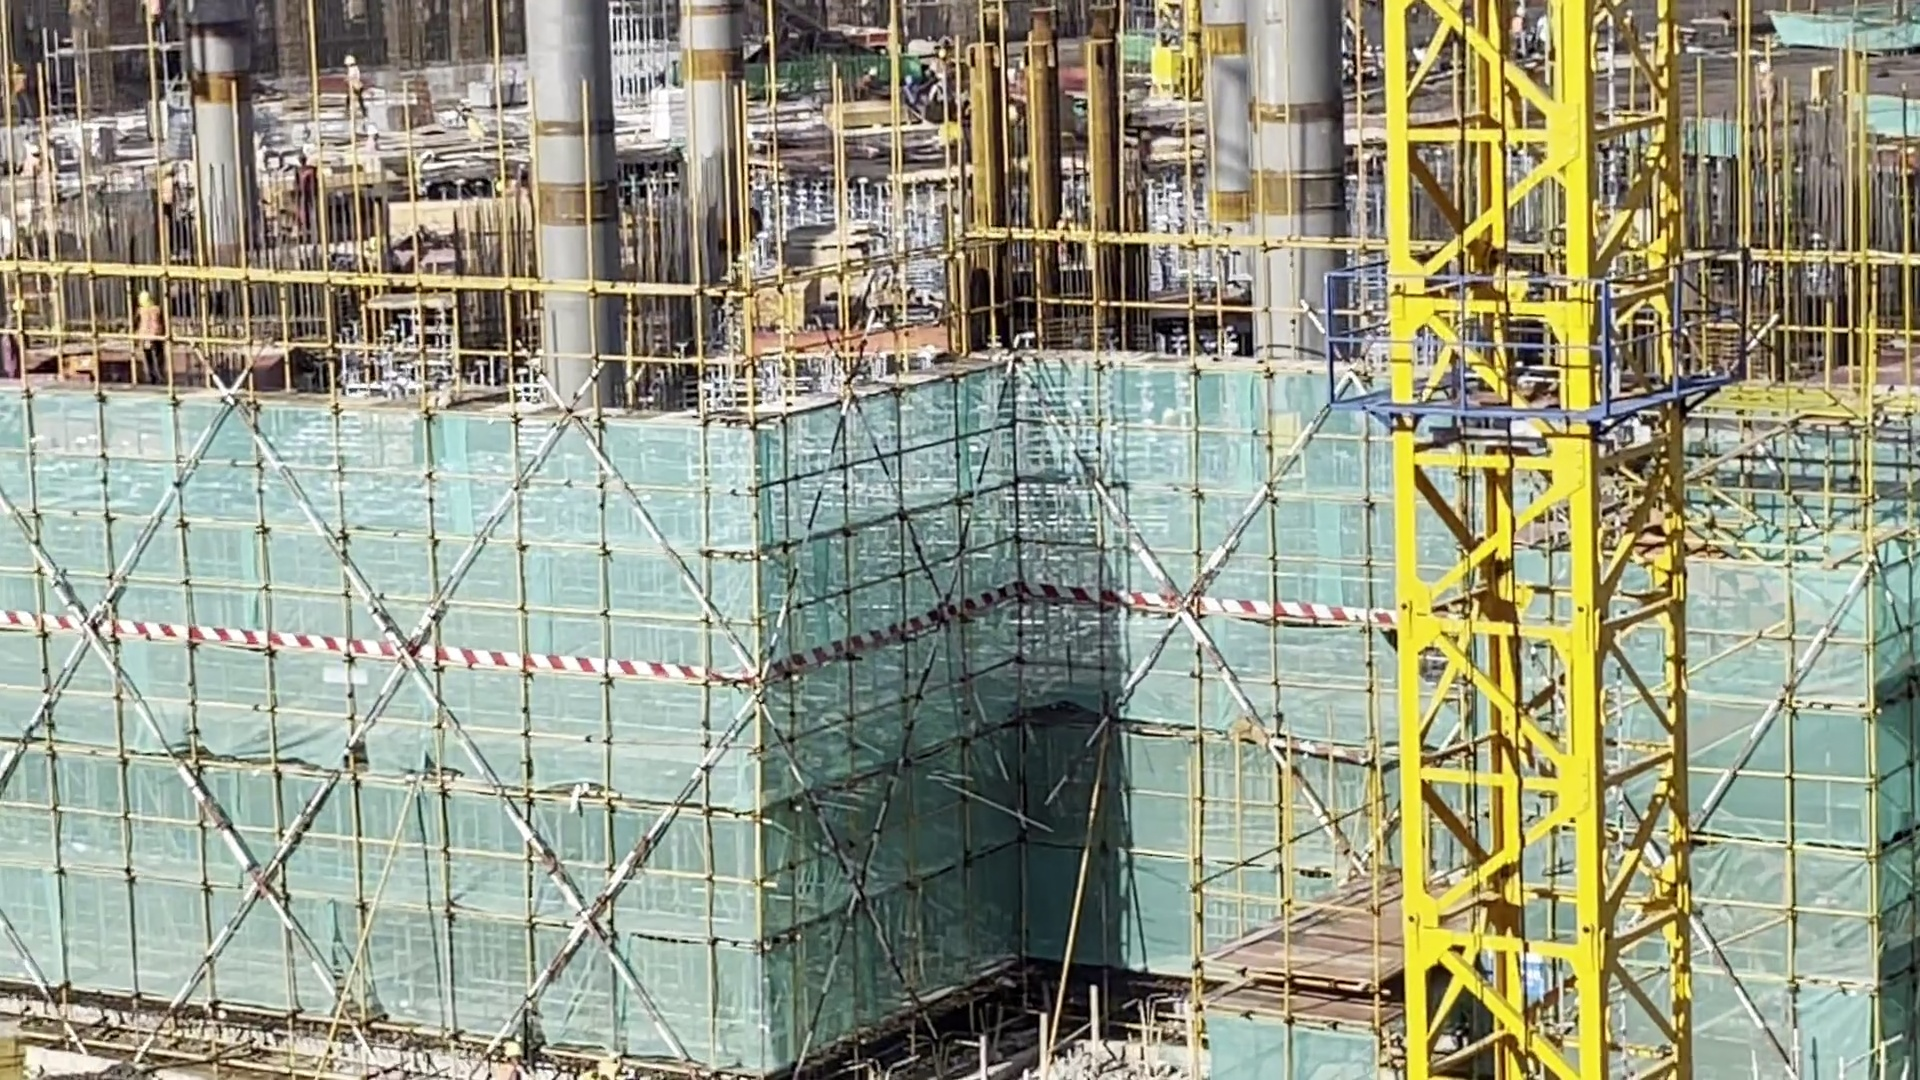helmet: (137, 293, 154, 307)
person: (135, 289, 162, 377), (343, 54, 366, 116)
